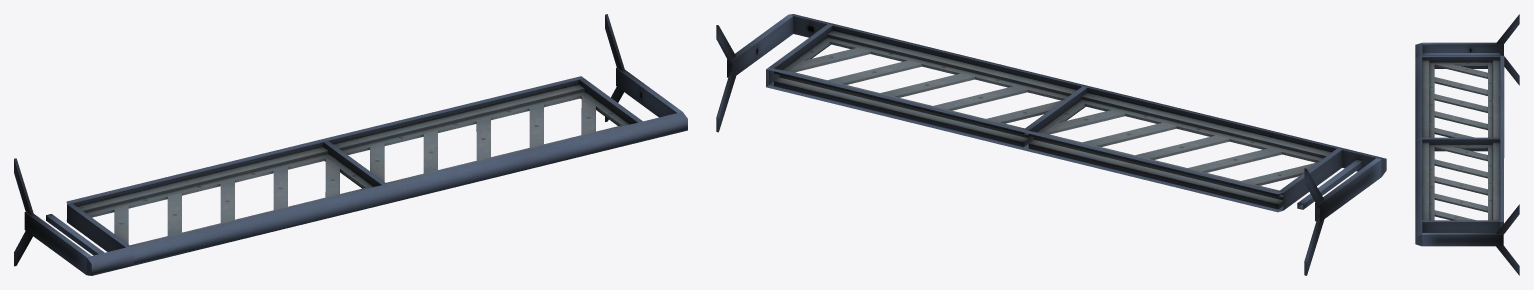
Rendered from nt_2020_vista_barricade_01_LOD0.obj.
The picture shows the model from 3 angles, left to right: view 1: azimuth 30°, elevation 25°; view 2: azimuth 150°, elevation 25°; view 3: azimuth 270°, elevation 25°; orthographic projection. The views are drawn at different scales.
Visible parts, largest first — view 1: mtl_nt_2020_street_gate_01; view 2: mtl_nt_2020_street_gate_01; view 3: mtl_nt_2020_street_gate_01.
Part boxes in pixels (bbox=[...]): mtl_nt_2020_street_gate_01: bbox=[14, 14, 687, 275]; mtl_nt_2020_street_gate_01: bbox=[716, 14, 1386, 275]; mtl_nt_2020_street_gate_01: bbox=[1415, 14, 1519, 275].
Bounding box in the file's own units: 418 × 72.1 × 95.94.
